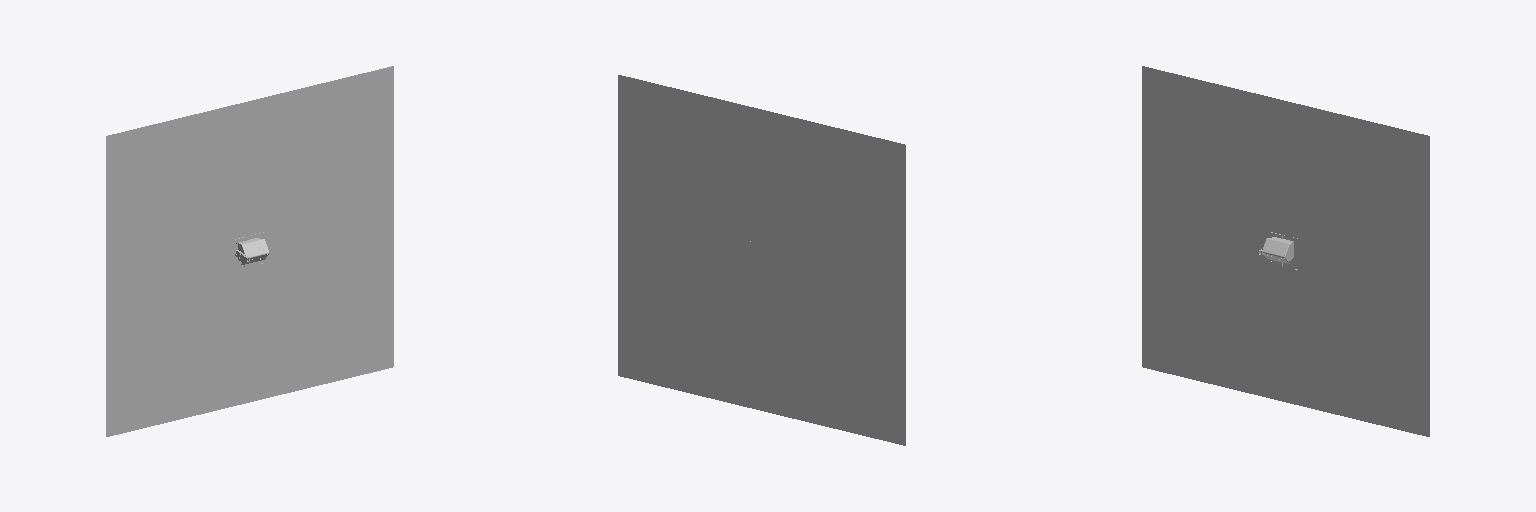
File: asdf.obj
3 views of the same model, side by side, from view 1: azimuth 30°, elevation 25°; view 2: azimuth 150°, elevation 25°; view 3: azimuth 330°, elevation 25° (orthographic).
Visible parts, largest first — view 1: Plane.026; view 2: Plane.026, Plane; view 3: Plane.026.
Part boxes in pixels (bbox=[...]): Plane.026: bbox=[106, 66, 393, 436]; Plane.026: bbox=[618, 75, 905, 445]; Plane: bbox=[747, 241, 776, 279]; Plane.026: bbox=[1142, 66, 1429, 436].
Size of the model in its own units: 108 by 108 by 7.7.